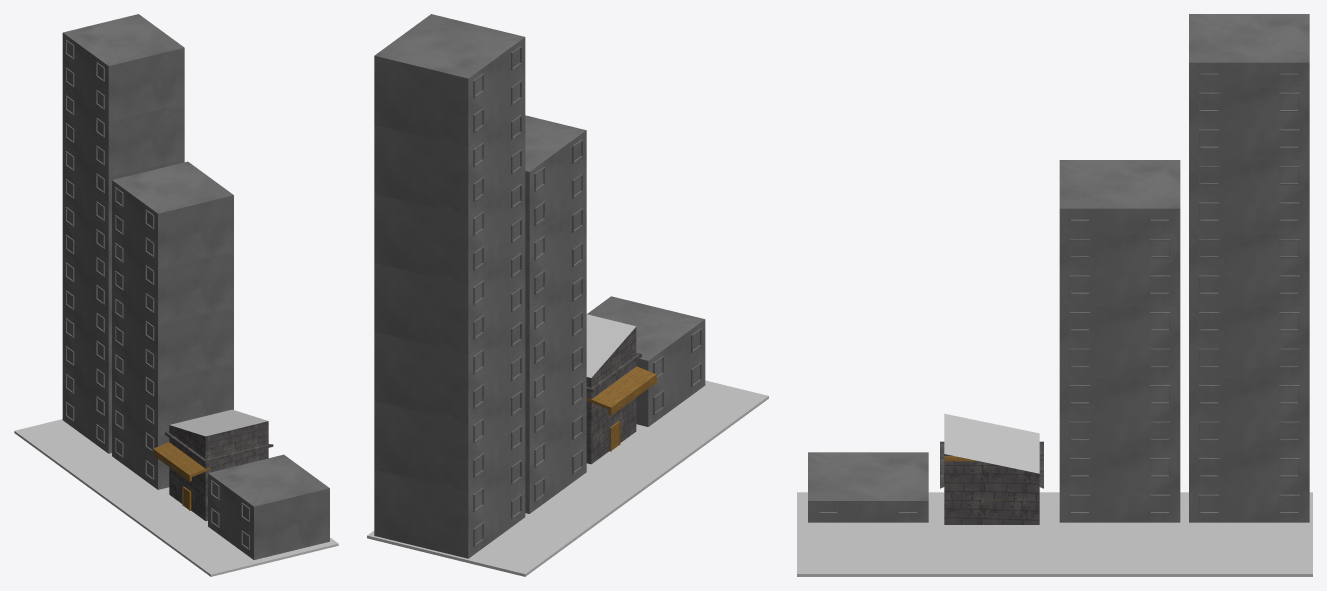
Rendered from Bloco 7.fbx.
The picture shows the model from 3 angles, left to right: view 1: azimuth 30°, elevation 25°; view 2: azimuth 150°, elevation 25°; view 3: azimuth 270°, elevation 25°; orthographic projection. The views are drawn at different scales.
Parts seen in each view (by area): view 1: Bloco 7; view 2: Bloco 7; view 3: Bloco 7.
Part boxes in pixels (x1,y1,x2,y2): Bloco 7: (14,14,338,576); Bloco 7: (367,14,768,576); Bloco 7: (797,14,1312,576).
Size of the model in its own units: 3000 by 8753 by 8000.
